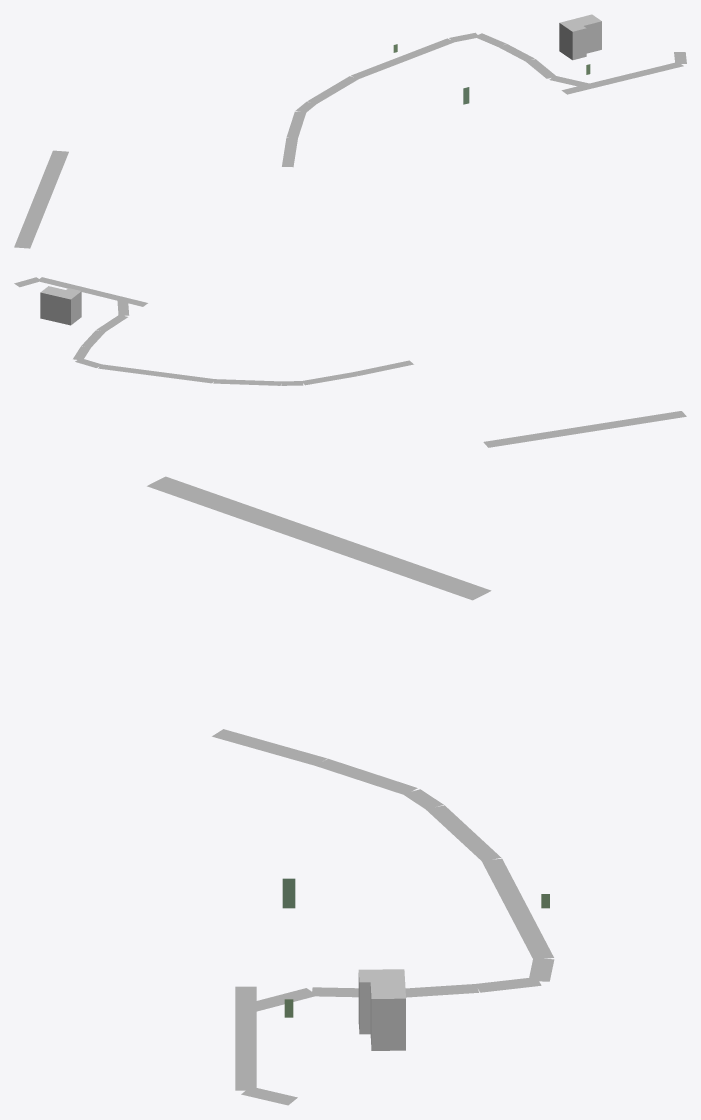
3 views of the same model, one above another, from view 1: azimuth 30°, elevation 25°; view 2: azimuth 150°, elevation 25°; view 3: azimuth 270°, elevation 25° (orthographic). The views are drawn at different scales.
Bounding box in the file's own units: 347 × 13.52 × 95.37.
